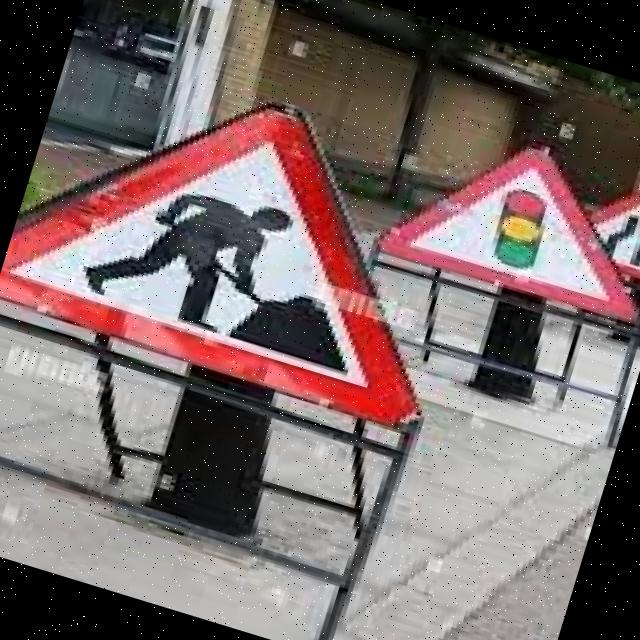light_traffic: (372, 112, 640, 329)
road_work: (0, 21, 479, 428)
